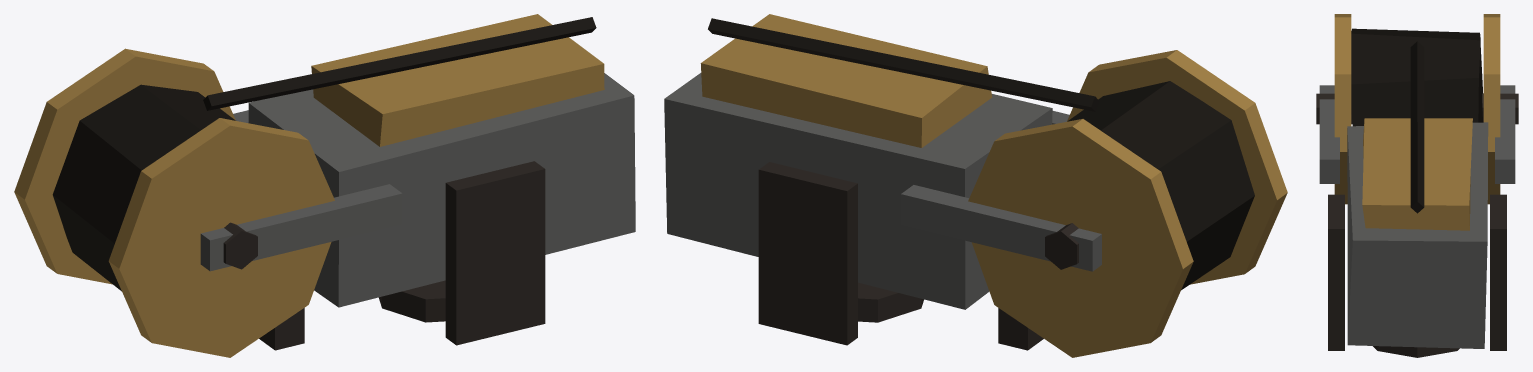
File: wrec_harpoon.glb
The picture shows the model from 3 angles, left to right: view 1: azimuth 30°, elevation 25°; view 2: azimuth 150°, elevation 25°; view 3: azimuth 270°, elevation 25°; orthographic projection. The views are drawn at different scales.
Visible parts, largest first — view 1: wrec_harpoon; view 2: wrec_harpoon; view 3: wrec_harpoon.
Boxes of the visible parts, <box> form: wrec_harpoon: <box>14,14,635,357</box>; wrec_harpoon: <box>664,14,1287,357</box>; wrec_harpoon: <box>1316,14,1518,357</box>.
Size of the model in its own units: 0.7148 by 0.36 by 0.3.
